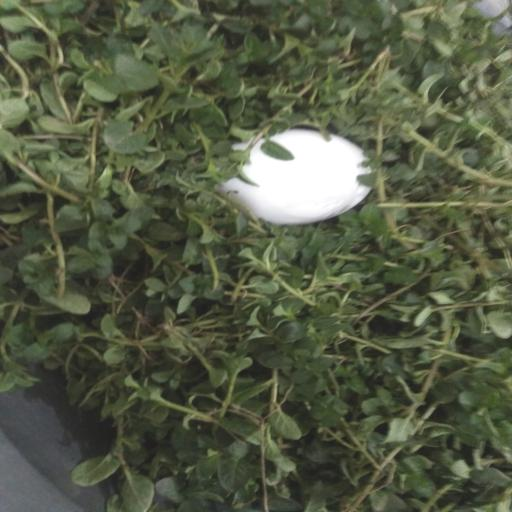telur: (215, 127, 376, 225)
